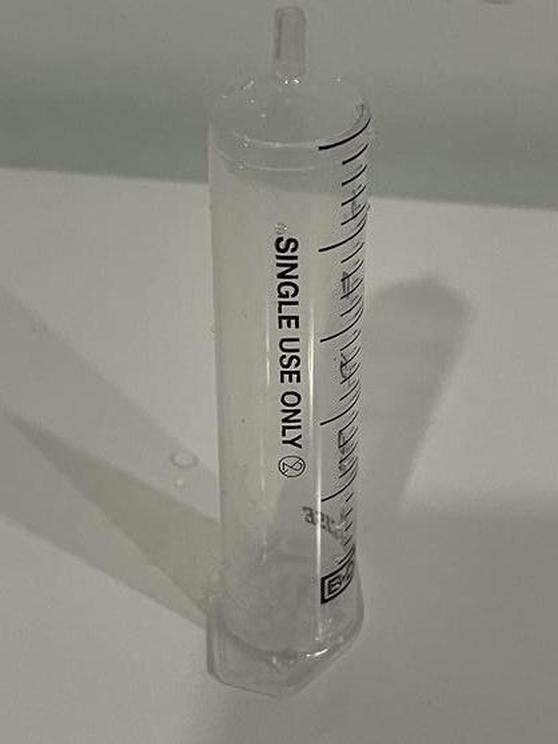wetsyringe: (202, 6, 373, 701)
